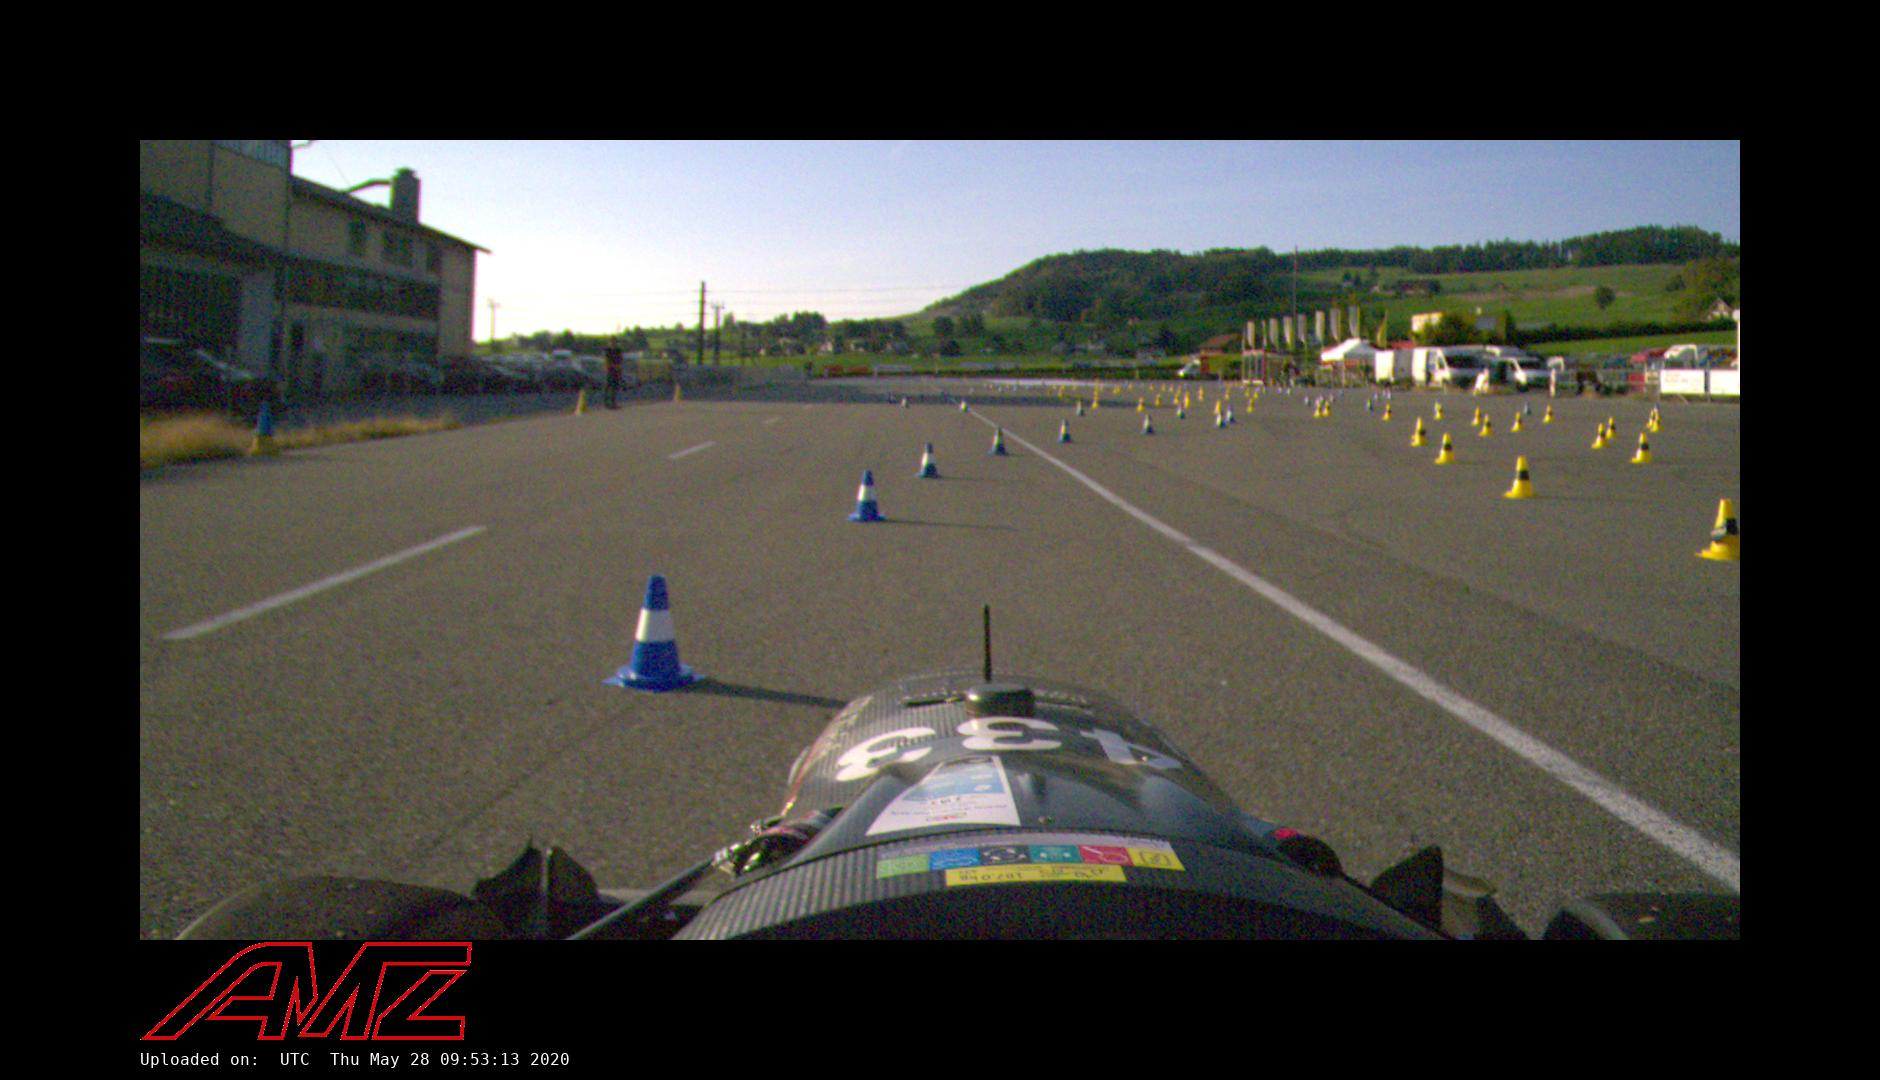blue_cone: (599, 574, 709, 694), (846, 469, 886, 522), (915, 441, 941, 479), (988, 427, 1008, 455), (1057, 419, 1074, 443), (1142, 413, 1156, 435), (1215, 412, 1226, 428), (1225, 407, 1235, 423)
yellow_cone: (1691, 496, 1739, 560), (1505, 456, 1539, 497), (1437, 433, 1461, 464), (1631, 432, 1653, 464), (1590, 422, 1608, 448), (1410, 421, 1429, 445), (1479, 415, 1495, 437), (1511, 412, 1525, 433), (1605, 417, 1619, 437), (1541, 405, 1555, 424), (1471, 408, 1483, 427), (1383, 404, 1394, 422)
